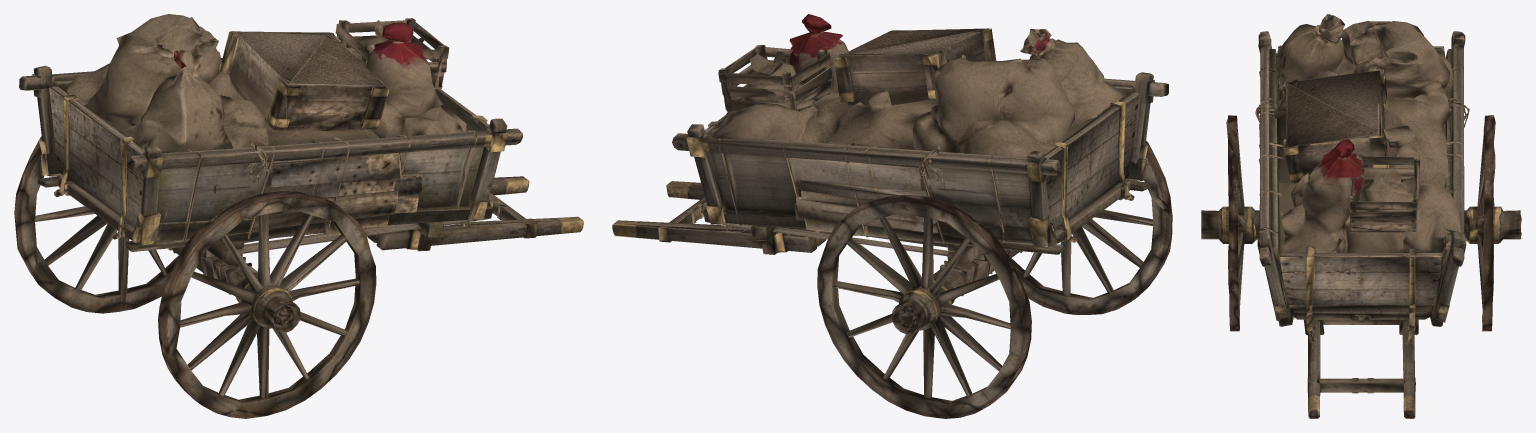
The model's file is vil-cart.fbx.
The picture shows the model from 3 angles, left to right: view 1: azimuth 30°, elevation 25°; view 2: azimuth 150°, elevation 25°; view 3: azimuth 270°, elevation 25°; orthographic projection. The views are drawn at different scales.
Parts seen in each view (by area): view 1: Mesh_0; view 2: Mesh_0; view 3: Mesh_0.
Boxes of the visible parts, left/top/right/bottom form: Mesh_0: left=14, top=14, right=583, bottom=418; Mesh_0: left=612, top=14, right=1172, bottom=418; Mesh_0: left=1201, top=14, right=1521, bottom=418.
Size of the model in its own units: 93.51 by 61.77 by 61.08.
Materials: 1 (1 with a texture image).
